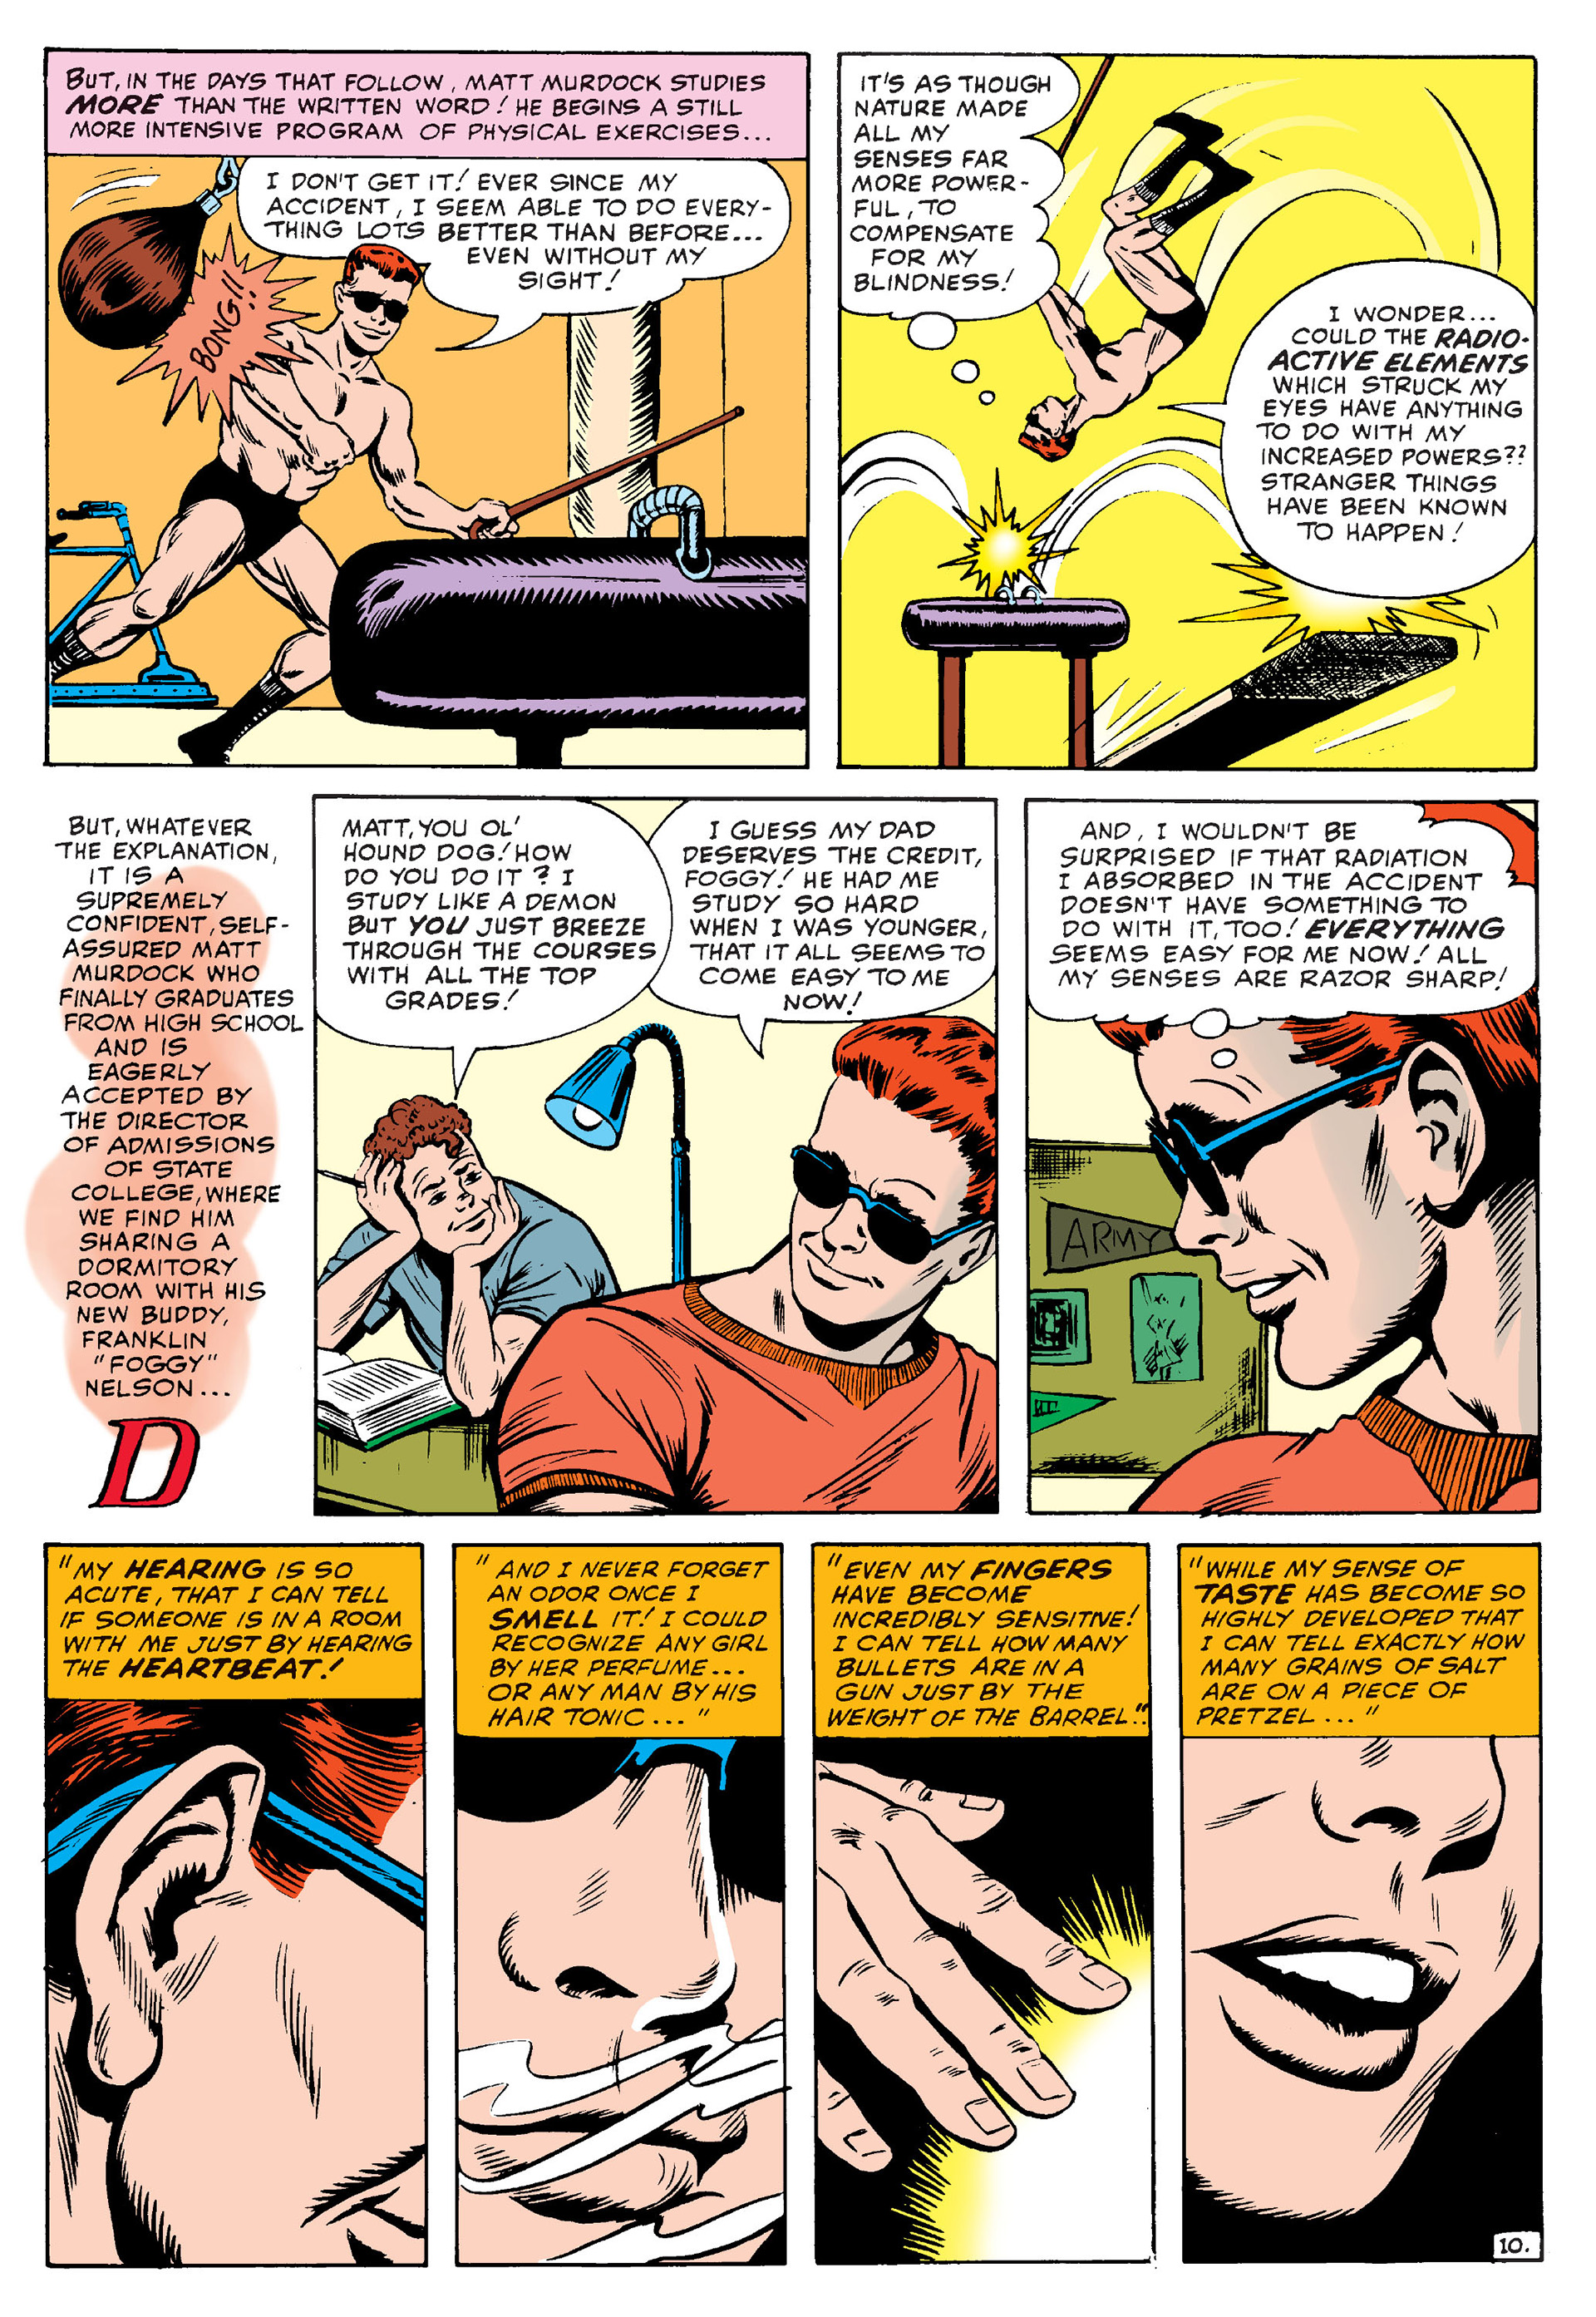Baloon: (33, 801, 294, 1516), (1024, 805, 1540, 1049), (236, 146, 799, 359), (1197, 259, 1540, 599), (318, 805, 676, 1090), (644, 785, 994, 1056), (44, 44, 813, 160), (1179, 1541, 1543, 1729), (816, 1541, 1149, 1743), (831, 60, 1080, 329), (449, 1541, 785, 1732), (51, 1539, 422, 1701)
Vignetta: (44, 56, 816, 771), (315, 792, 1008, 1512), (843, 48, 1533, 764), (1031, 792, 1536, 1512), (48, 1539, 422, 2268), (1182, 1541, 1543, 2254), (816, 1523, 1149, 2264), (456, 1541, 781, 2264)
